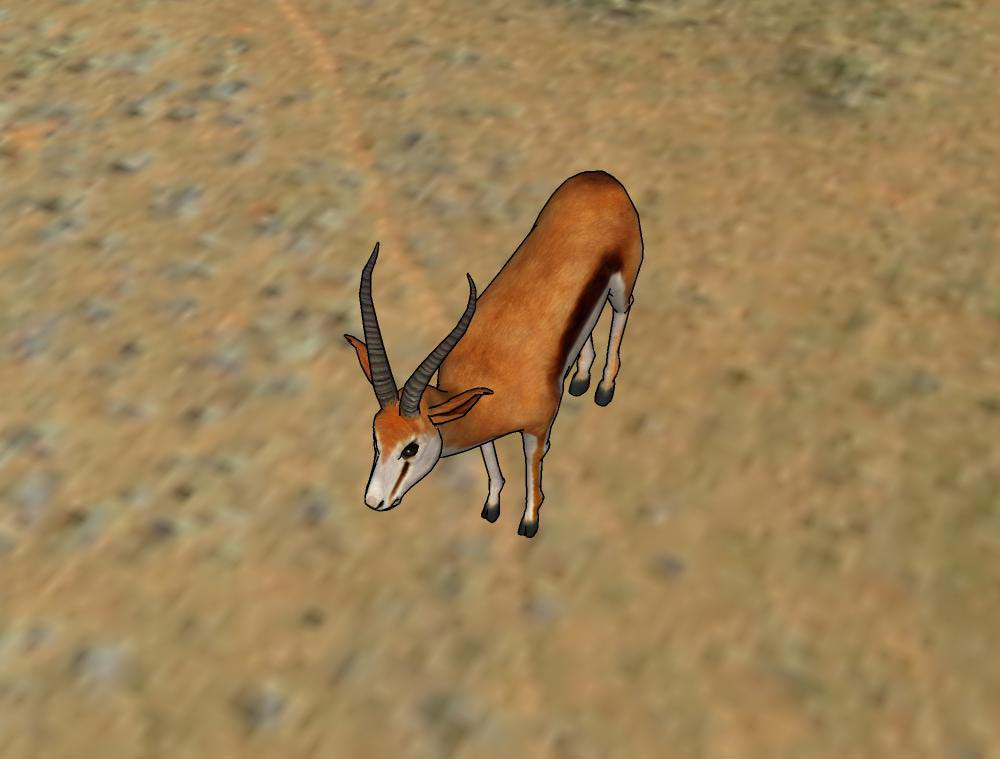springbok: (343, 156, 651, 549)
